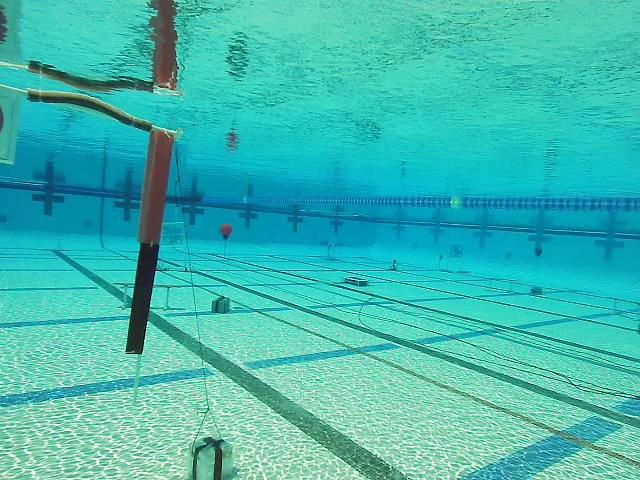buoy: (219, 224, 232, 242)
dropper: (343, 275, 368, 286)
gate_leg_r: (127, 125, 177, 357)
table: (319, 239, 346, 261)
torpedo: (446, 242, 464, 260)
